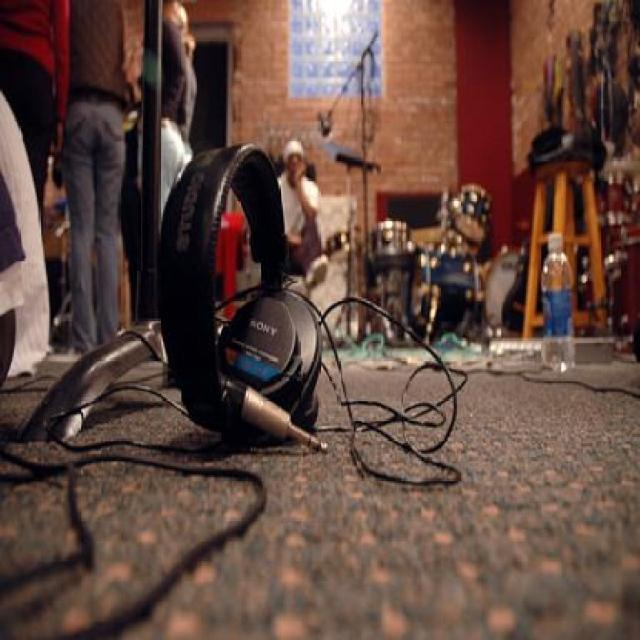earphone: (138, 122, 395, 470)
